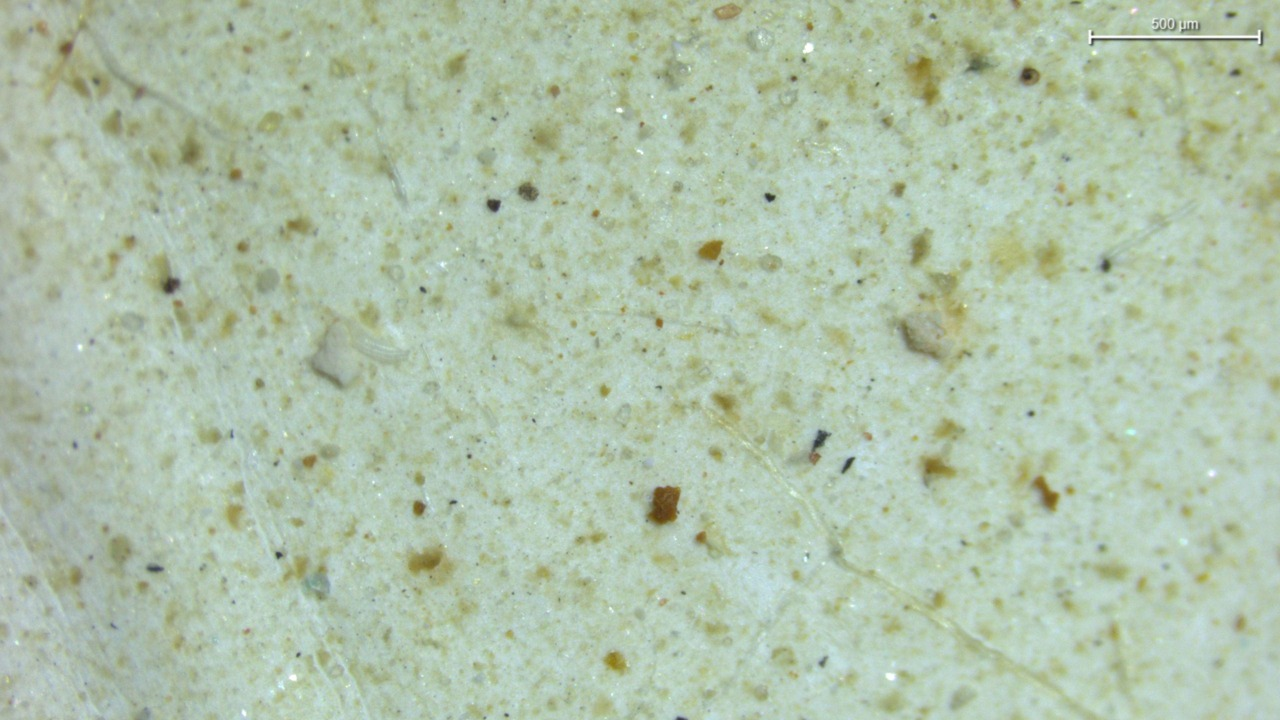microplastic_fragment: (311, 321, 360, 386), (900, 313, 950, 358), (354, 331, 407, 362)
